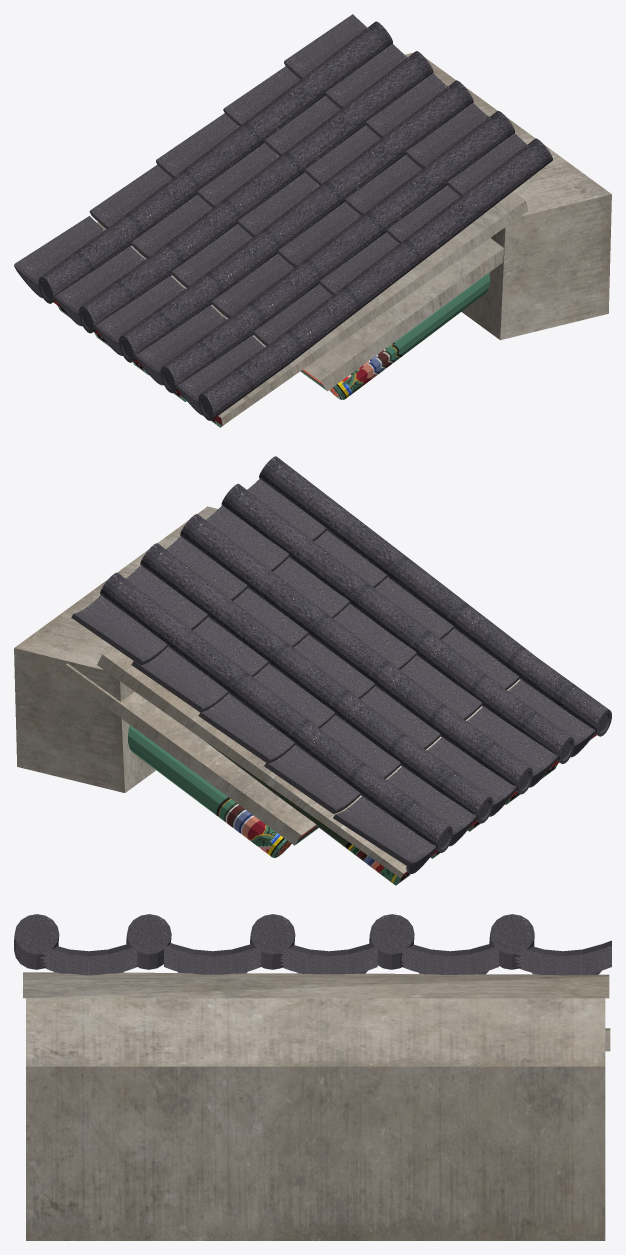
File: SM_Roof_23.fbx
3 renders of one model, top to bottom at view 1: azimuth 30°, elevation 25°; view 2: azimuth 150°, elevation 25°; view 3: azimuth 270°, elevation 25°, orthographic. The views are drawn at different scales.
Visible parts, largest first — view 1: SM_Roof_23; view 2: SM_Roof_23; view 3: SM_Roof_23.
Boxes of the visible parts, box(x1,y1,x2,y2) form: SM_Roof_23: box(14, 14, 611, 427); SM_Roof_23: box(14, 456, 611, 885); SM_Roof_23: box(14, 914, 611, 1240).
Bounding box in the file's own units: 392 × 338 × 211.
Materials: 4 (4 with a texture image).
